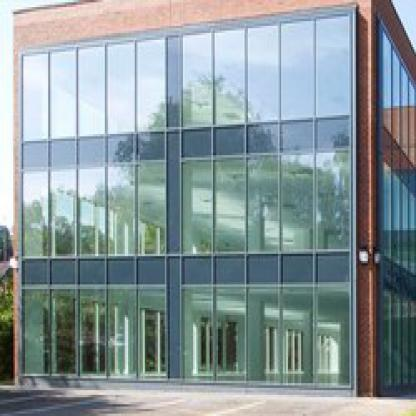window: (318, 26, 346, 110), (284, 157, 310, 247), (320, 157, 346, 247), (250, 30, 276, 118), (284, 28, 310, 115), (185, 292, 211, 378), (183, 167, 210, 249), (217, 162, 242, 249), (251, 291, 275, 381), (321, 294, 345, 381), (218, 35, 241, 120), (218, 294, 241, 378), (286, 294, 308, 381), (251, 162, 273, 247), (185, 40, 208, 120), (140, 169, 163, 249), (141, 296, 162, 376), (110, 172, 131, 252), (140, 47, 160, 127), (110, 296, 131, 371), (82, 176, 103, 251), (25, 176, 45, 254), (110, 50, 131, 124), (83, 296, 102, 369), (27, 294, 45, 369), (83, 52, 100, 129), (25, 61, 43, 132), (57, 296, 73, 369), (55, 176, 71, 249), (55, 54, 70, 129)
